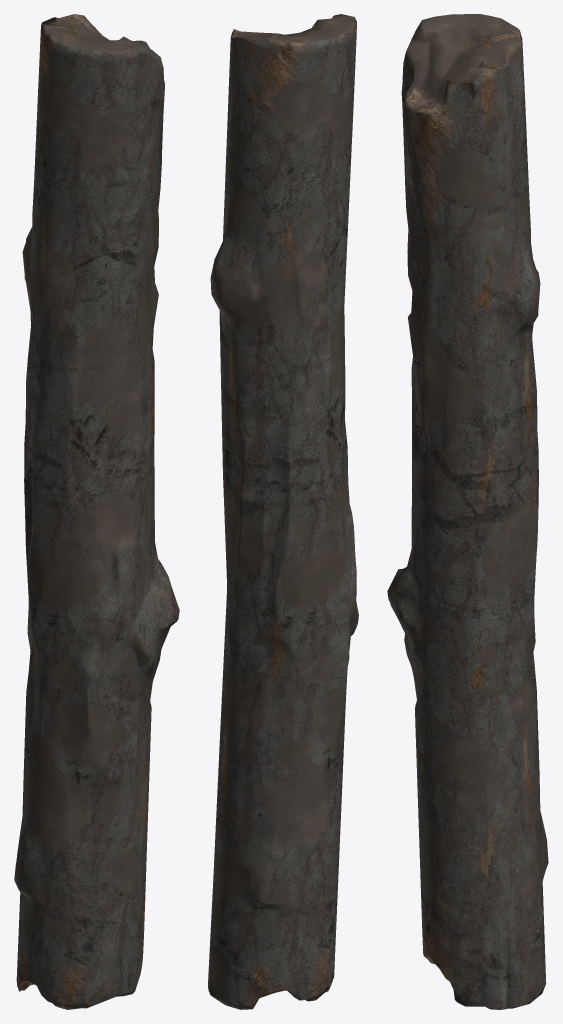
The model's file is SM_LogMed_02.glb.
3 views of the same model, side by side, from view 1: azimuth 90°, elevation 25°; view 2: azimuth 150°, elevation 25°; view 3: azimuth 270°, elevation 25° (orthographic). The views are drawn at different scales.
Visible parts, largest first — view 1: SM_LogMed_02; view 2: SM_LogMed_02; view 3: SM_LogMed_02.
Boxes of the visible parts, left/top/right/bottom form: SM_LogMed_02: left=14, top=14, right=179, bottom=1009; SM_LogMed_02: left=208, top=14, right=358, bottom=1009; SM_LogMed_02: left=387, top=14, right=548, bottom=1009.
Bounding box in the file's own units: 0.2717 × 1.97 × 0.303.
Materials: 1 (1 with a texture image).
